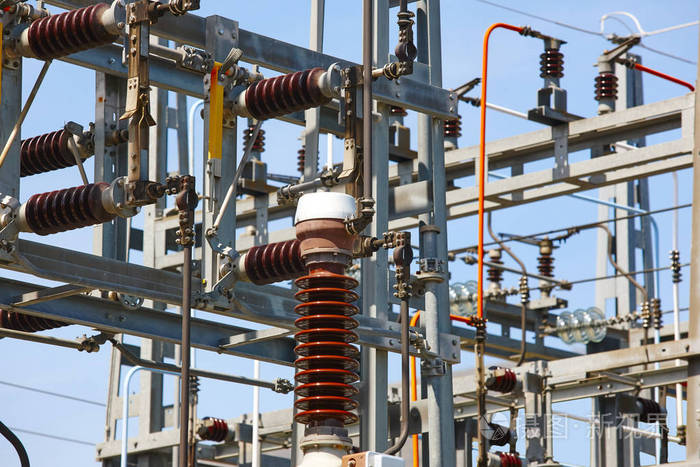insulator: (553, 306, 605, 345), (449, 283, 481, 317)
